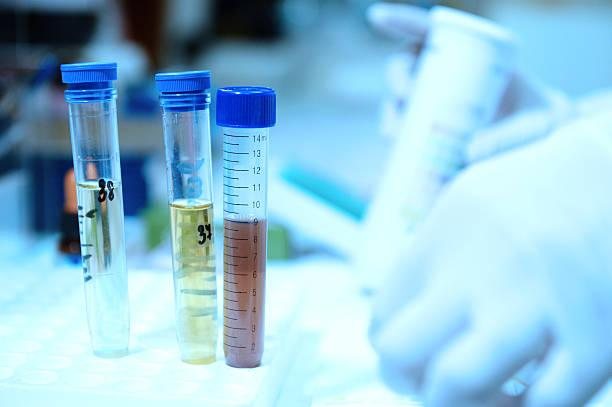Test tube: (59, 63, 141, 362), (150, 69, 223, 365), (230, 69, 267, 376)
